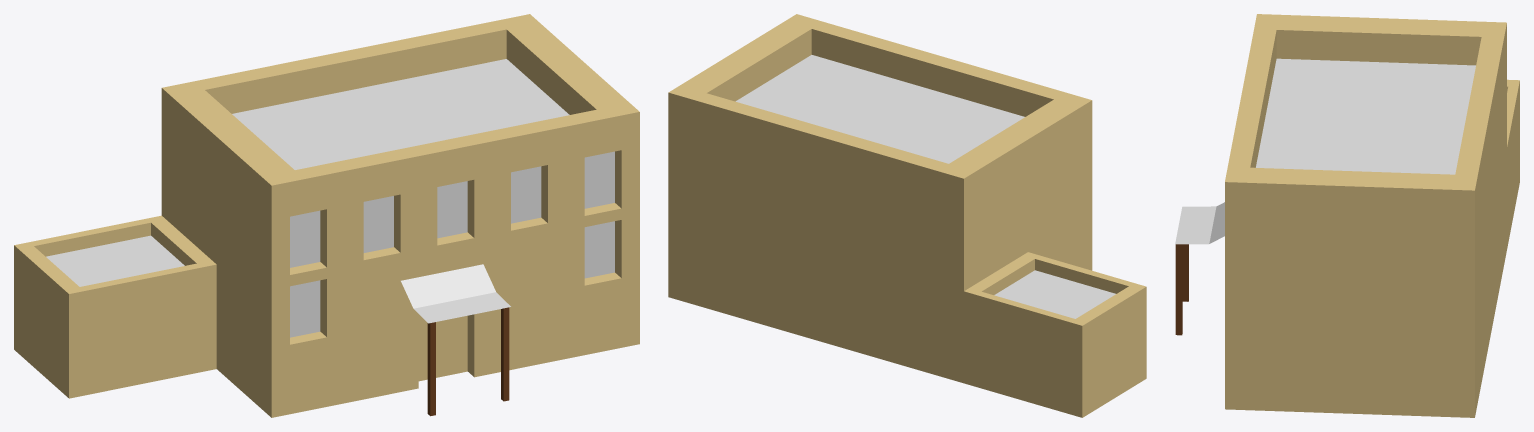
Rendered from casaTipo4.fbx.
3 views of the same model, side by side, from view 1: azimuth 30°, elevation 25°; view 2: azimuth 150°, elevation 25°; view 3: azimuth 270°, elevation 25° (orthographic). The views are drawn at different scales.
Parts seen in each view (by area): view 1: Cube.099; view 2: Cube.099; view 3: Cube.099.
Boxes of the visible parts, x1,y1,x2,y2 form: Cube.099: (14,14,639,417); Cube.099: (668,14,1146,417); Cube.099: (1175,14,1519,417).
Bounding box in the file's own units: 2512 × 1111 × 1527.
